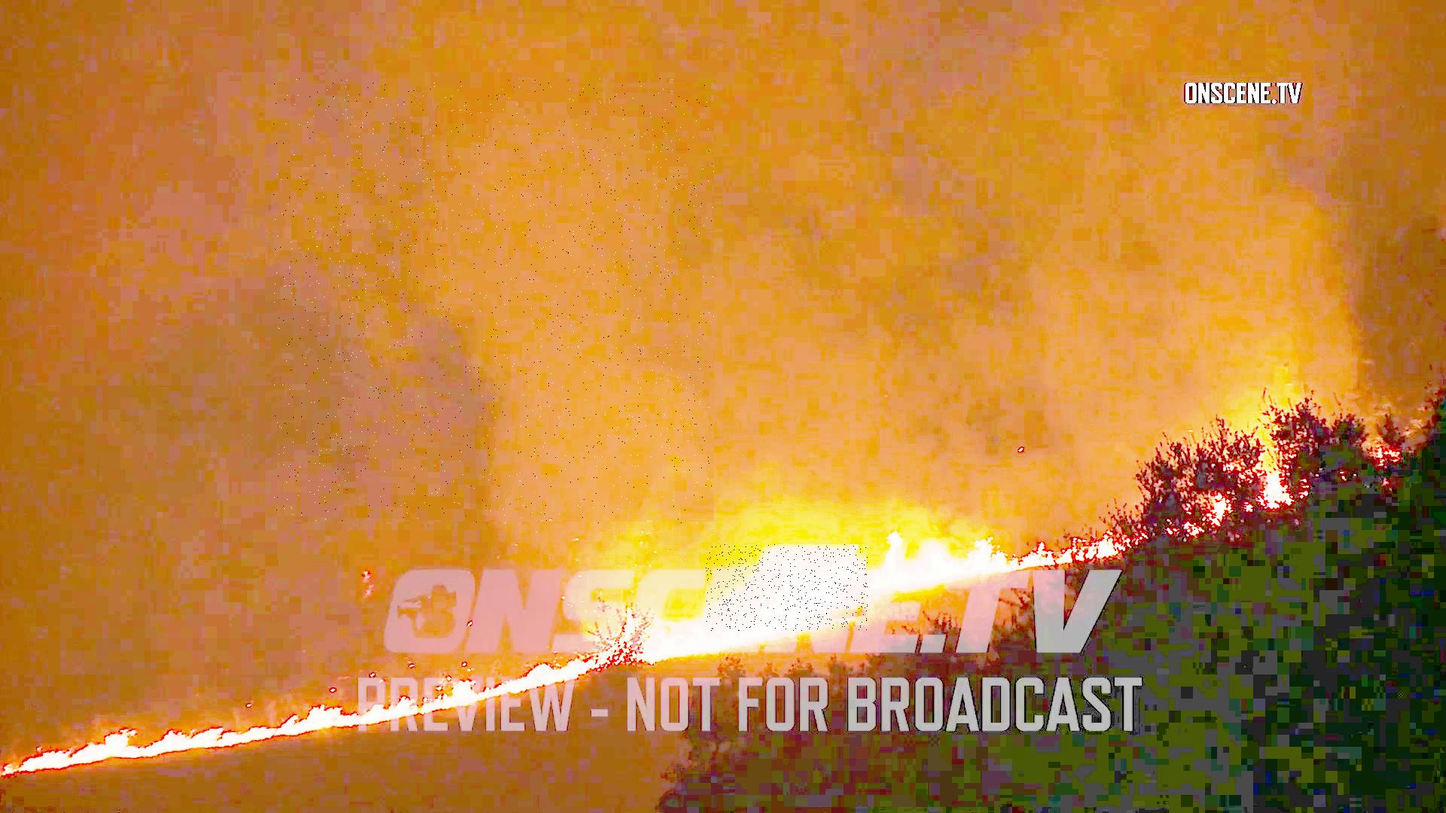fire: (706, 544, 868, 631)
smoke: (273, 79, 714, 524)
